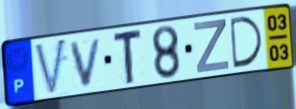8: (151, 24, 182, 80)
D: (227, 14, 265, 70)
T: (112, 26, 144, 87)
V: (33, 35, 69, 97), (68, 35, 105, 89)
Z: (192, 17, 232, 75)
